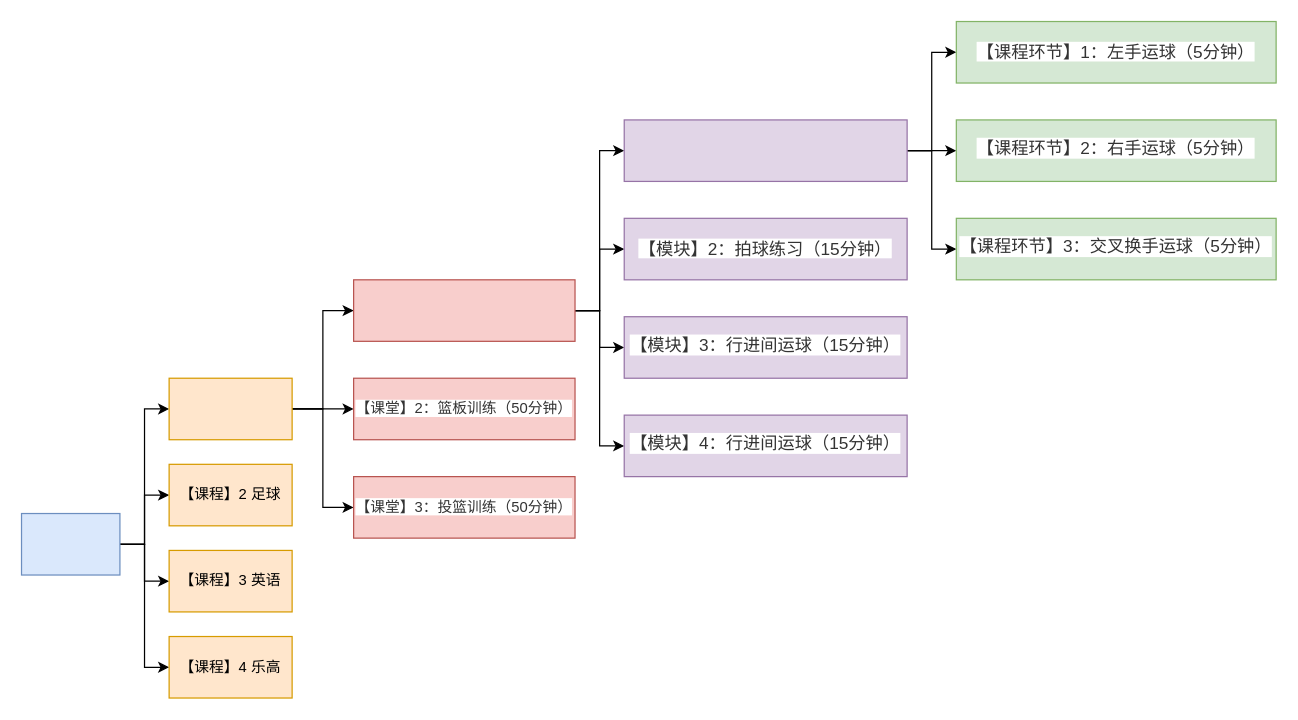
This 1298x720 diagram has some shape labels left out. The box of each missing label's shape, as (x1, y1, x2, y2) in pixels:
【模块】1：热身运动（10分钟）: (623, 119, 907, 181)
【课堂】1：运球训练（50分钟）: (352, 279, 575, 341)
【课程】1 篮球: (168, 377, 292, 440)
科目: (20, 512, 120, 575)
